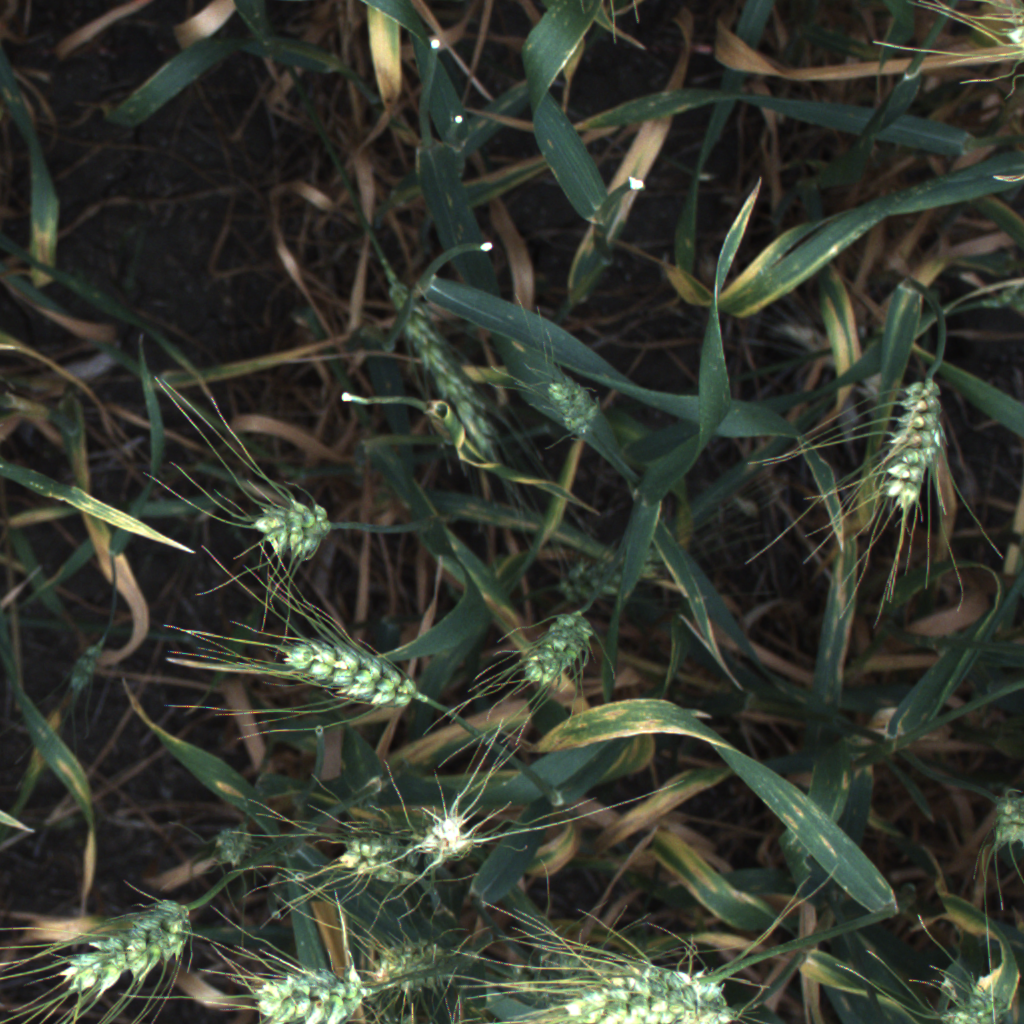wheat_head: (385, 267, 499, 457), (47, 885, 208, 1001), (274, 617, 435, 717), (867, 372, 946, 527), (550, 952, 725, 1016), (506, 595, 605, 702), (352, 929, 472, 1008), (245, 958, 380, 1024), (329, 816, 434, 887), (410, 802, 495, 871), (537, 363, 608, 443), (252, 493, 329, 561), (930, 976, 1020, 1024), (983, 771, 1024, 859), (589, 1007, 769, 1024), (980, 0, 1024, 69)
